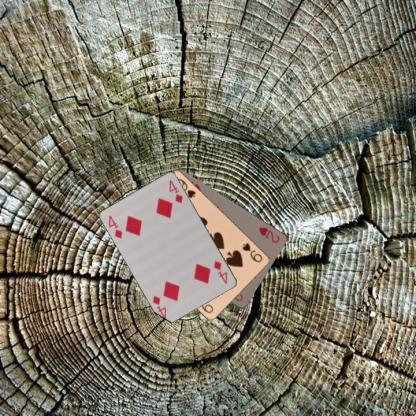2h: (257, 224, 282, 245)
4d: (211, 258, 229, 286), (106, 212, 124, 240)
9s: (240, 240, 264, 263)
